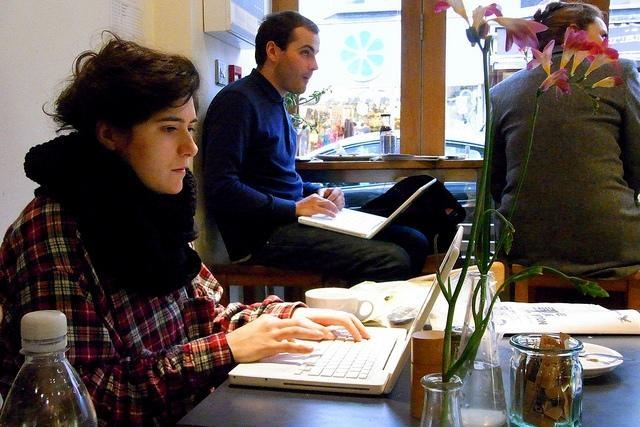car: (302, 128, 486, 160)
